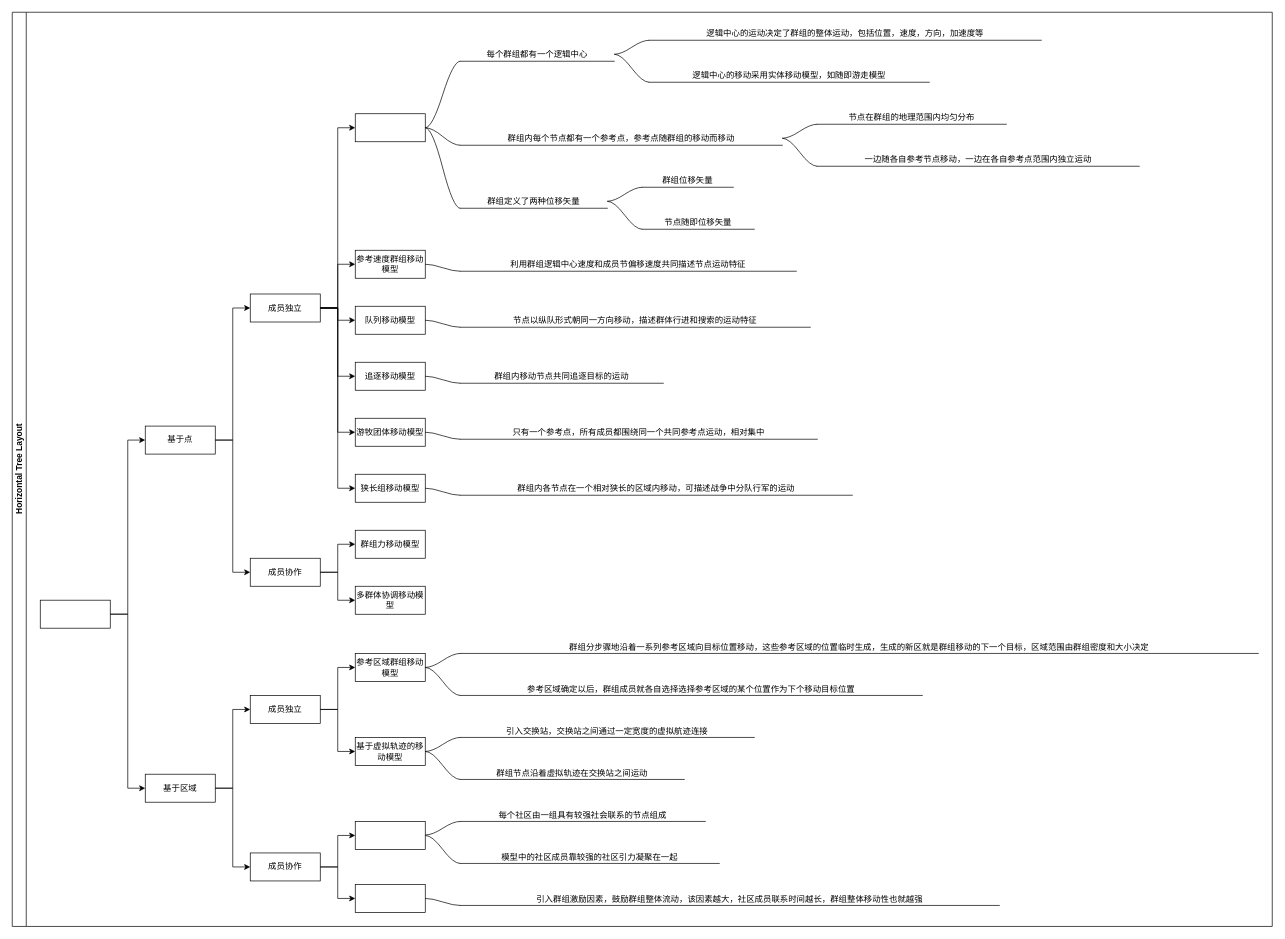
The diagram is 1285 pixels wide and 939 high, and some of its shapes have lost their labels. Here are the shapes that lost their labels. From the top down, the box of each, then its label:
(355, 113, 425, 142): 参考点群组移动模型
(40, 599, 110, 628): 群组移动模型
(355, 821, 425, 849): 基于社区的移动模型
(355, 884, 425, 912): 增强版社区移动模型
